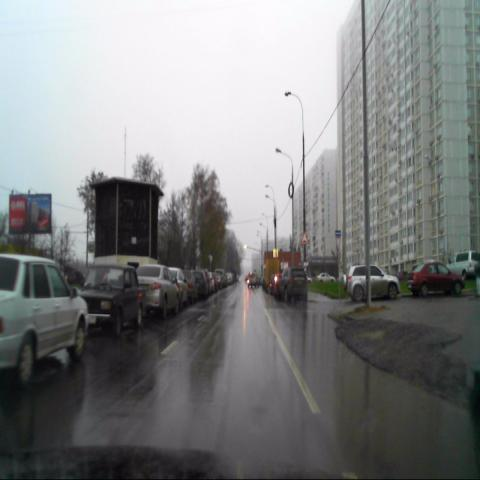1_17: (300, 230, 308, 244)
